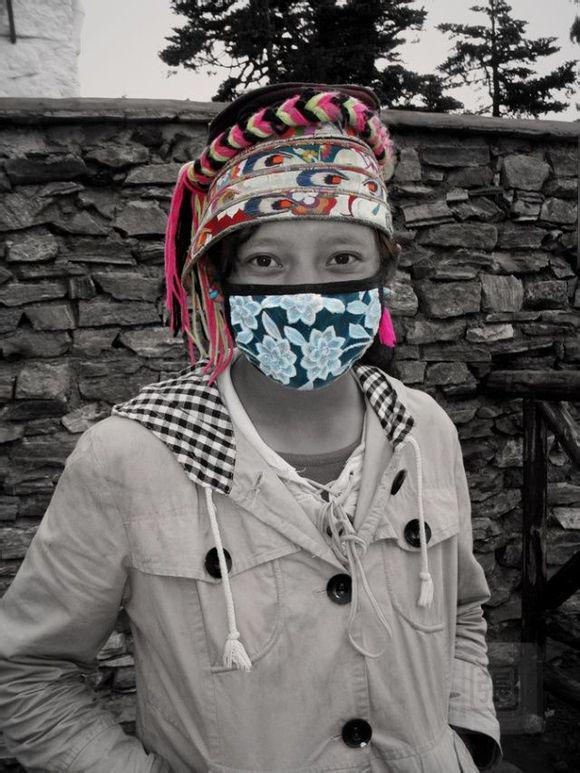OK: (231, 224, 390, 383)
